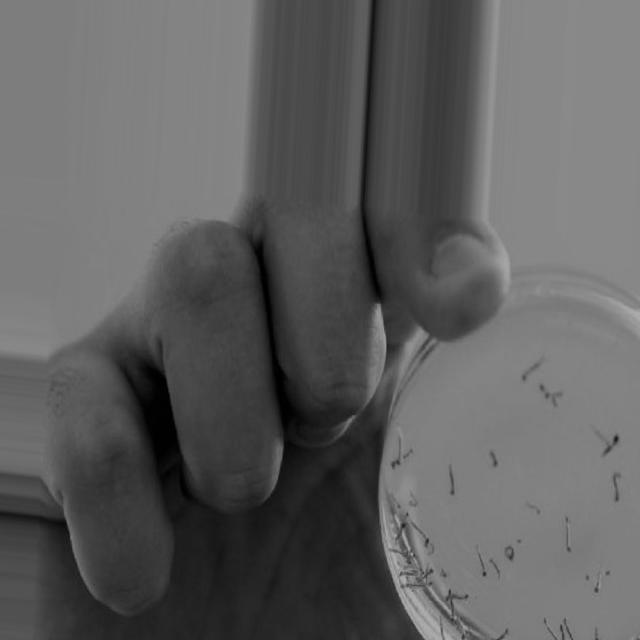larvas: (521, 356, 543, 381), (411, 522, 430, 545), (604, 436, 621, 457), (595, 565, 608, 592), (543, 616, 557, 640), (389, 546, 413, 558), (476, 543, 484, 577), (526, 496, 539, 516), (611, 471, 619, 502), (406, 489, 419, 508), (564, 613, 573, 640), (456, 618, 467, 640), (393, 521, 405, 541), (447, 463, 454, 495), (593, 424, 606, 441), (565, 514, 571, 550), (401, 584, 428, 592), (397, 430, 403, 464), (397, 562, 422, 570), (497, 625, 510, 640), (418, 567, 434, 579), (490, 557, 500, 576), (551, 390, 562, 406), (438, 616, 445, 640), (591, 625, 601, 640), (537, 384, 549, 396), (506, 543, 514, 561), (447, 604, 456, 620), (399, 570, 422, 576), (392, 492, 400, 509), (405, 444, 412, 463), (446, 594, 468, 600), (491, 448, 496, 469), (560, 620, 564, 640)
